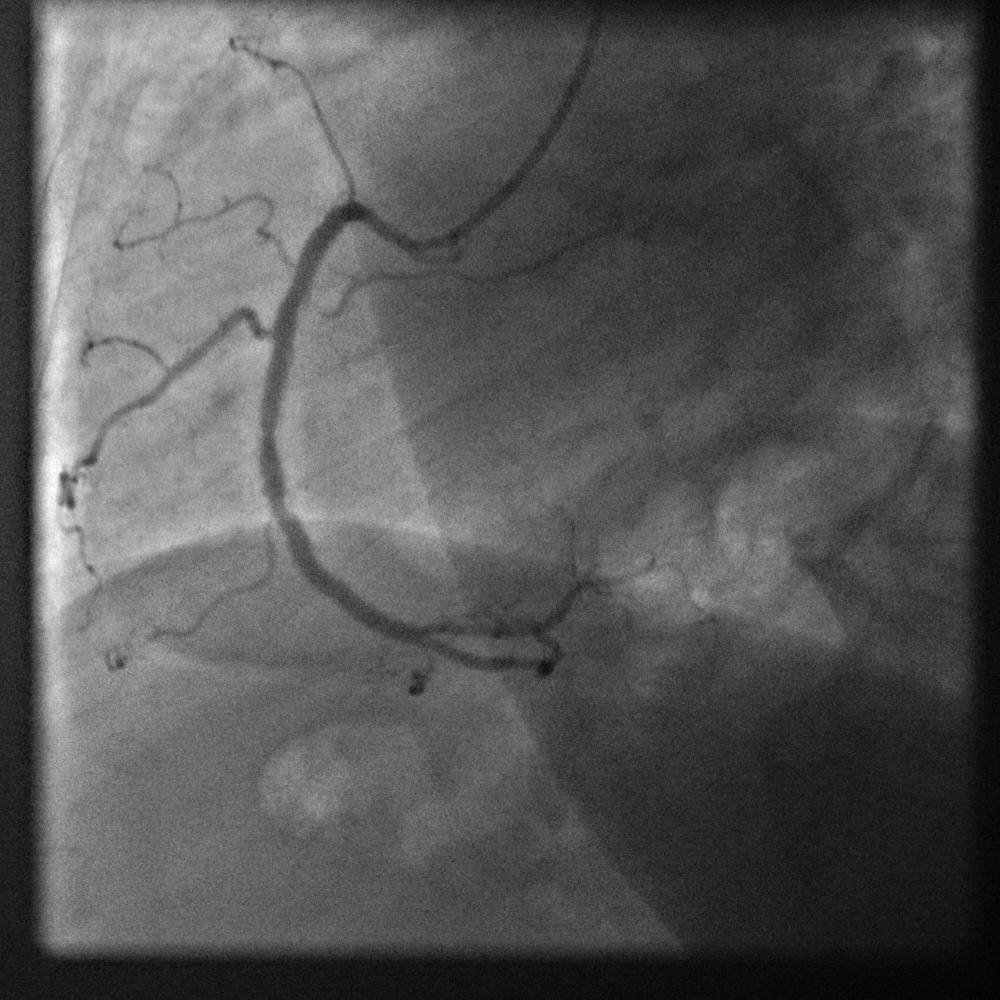Stenosis: (274, 249, 313, 314)
